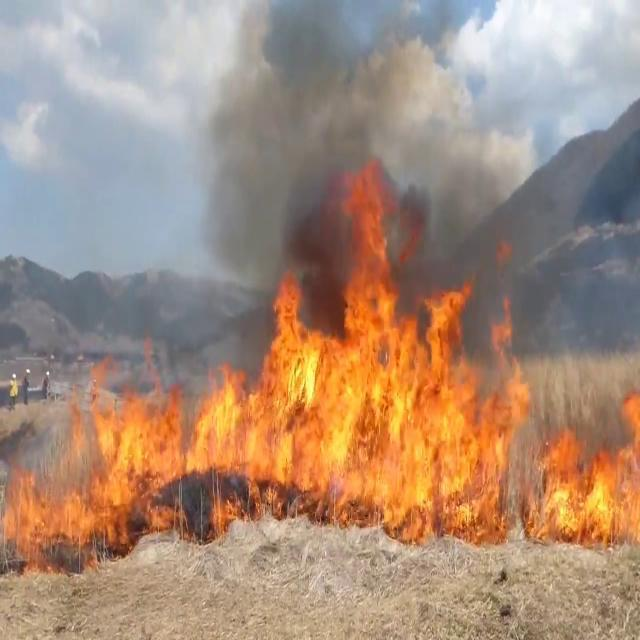Fire: (84, 162, 530, 524), (450, 310, 640, 544)
Smoke: (172, 0, 418, 291)
